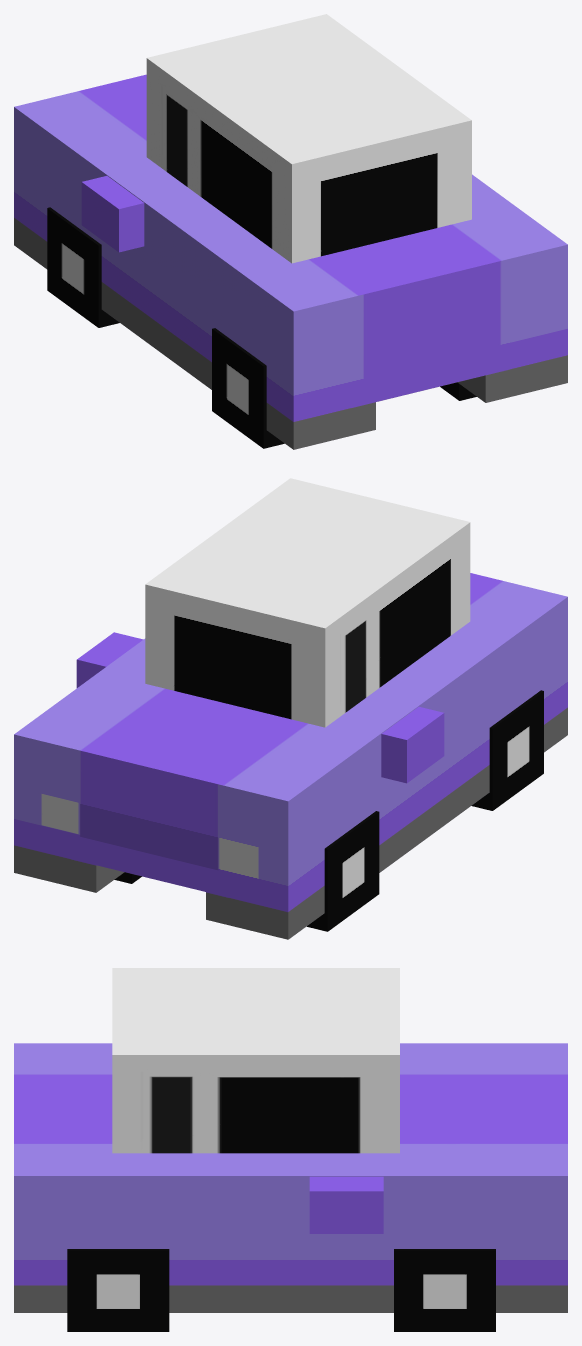
Rendered from purple car.fbx.
3 views of the same model, one above another, from view 1: azimuth 30°, elevation 25°; view 2: azimuth 150°, elevation 25°; view 3: azimuth 270°, elevation 25° (orthographic).
Visible parts, largest first — view 1: purple_car_wiel3; view 2: purple_car_wiel3; view 3: purple_car_wiel3.
Boxes of the visible parts, bbox=[...] form: purple_car_wiel3: bbox=[14, 14, 567, 449]; purple_car_wiel3: bbox=[14, 478, 567, 939]; purple_car_wiel3: bbox=[14, 968, 567, 1331].
Size of the model in its own units: 2.01 by 1.48 by 2.94.
4 materials, 4 textured.
